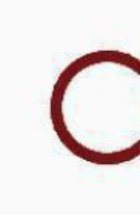RadioButton: (1, 1, 139, 214)
